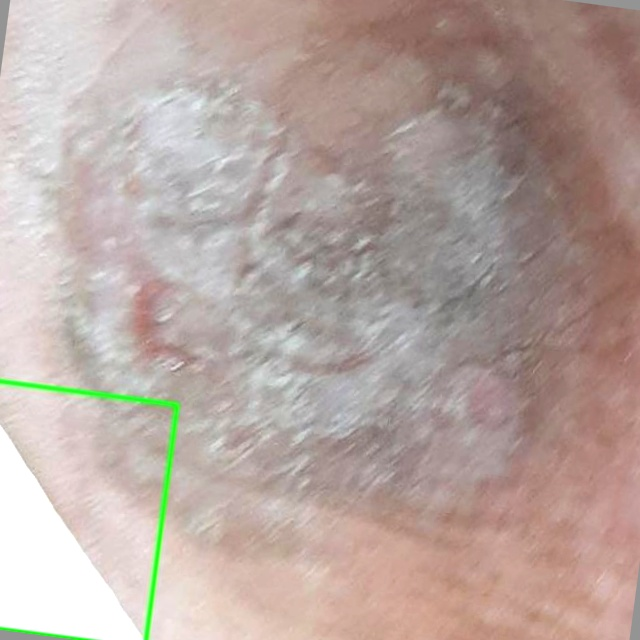Contact Dermatitis: (0, 381, 177, 639)
